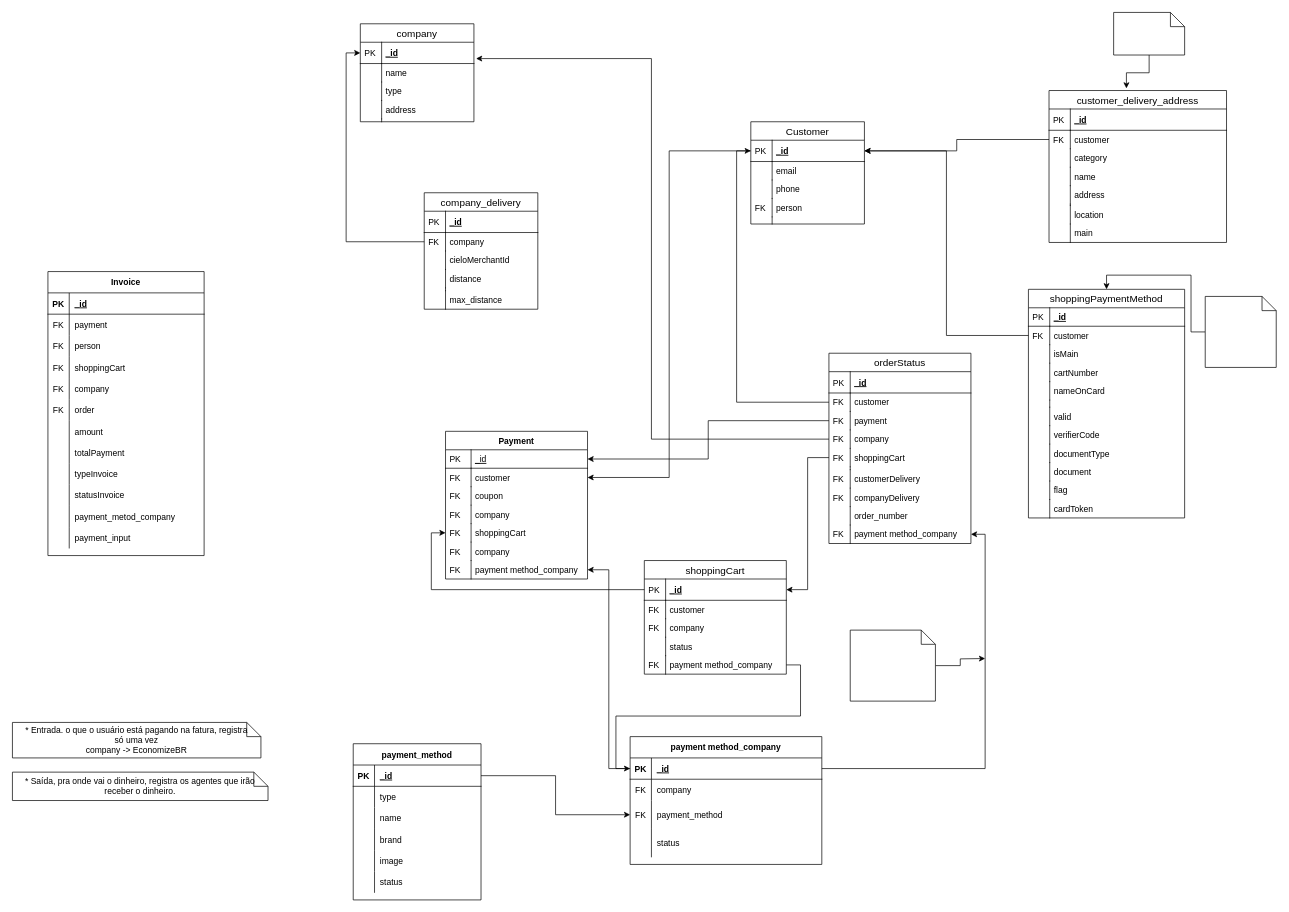
Some shapes in this 1289 by 912 pixel diagram are drawn without their labels. Here are the shapes that lost their labels. From the top down, the centre of each, then its label:
At (x=1149, y=33): "Endereço do usuário".
At (x=1240, y=331): "Utilizado Atualmente para cadastro de Cartão".
At (x=892, y=665): "payment method_company Apenas quando existir pagamento próprio".
